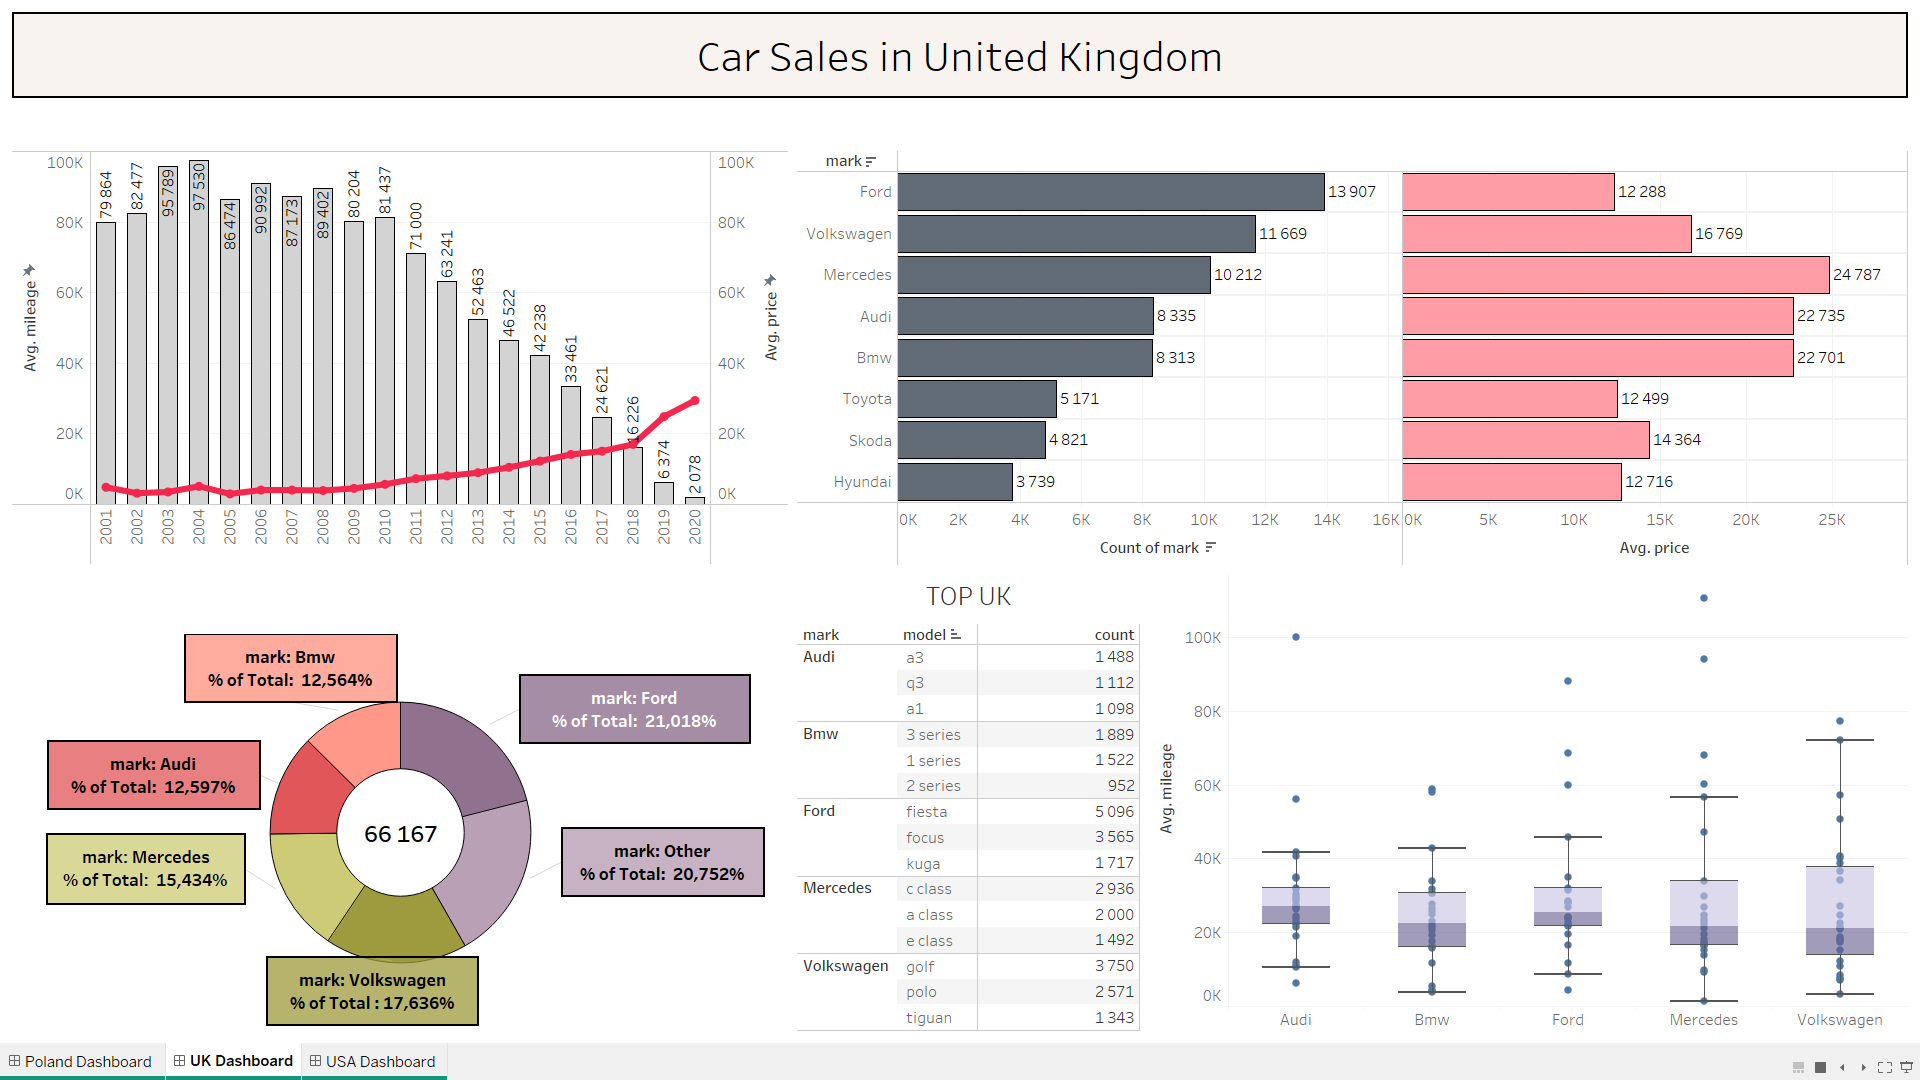

Layout of this report page (visuals, bound fields, positions):
{"tool":"tableau","page":{"name":"UK Dashboard","canvas":[1000,1000],"units":"permille","ordinal":1},"visuals":[{"type":"text","box":[4.8,9.3,990.3,90]},{"type":"blank","box":[4.8,99.2,990.3,43.1]},{"type":"worksheet","title":"5) Cars Bar/Line UK","mark":"Automatic","rows":["mileage","price"],"cols":["Calculation_234750171515437056"],"box":[4.8,142.3,408.3,403.5]},{"type":"worksheet","title":"3) Sold/Avg Barplot UK","mark":"Automatic","rows":["mark"],"cols":["mark","price"],"box":[413.1,142.3,582.1,403.8]},{"type":"blank","box":[4.8,545.8,408.3,57.9]},{"type":"worksheet","title":"1) TOP UK","mark":"Automatic","rows":["mark","model"],"box":[413.1,546.2,182.7,444.5]},{"type":"worksheet","title":"2) Boxplot UK","mark":"Circle","rows":["mileage"],"cols":["mark"],"box":[595.8,546.2,399.4,444.5]},{"type":"worksheet","title":"4) Donut UK","mark":"Pie","rows":["mark","mark"],"box":[4.8,603.7,408.3,387]}]}

Visuals, with their boxes on the dashboard's canvas, which has no fixed pixel size, in thousandths of its width and height (x1, y1, x2, y2). These are canvas units, not pixel positions in the 1920x1080 screenshot, which may show the page scaled, cropped or inside an application window:
text: <box>5,9,995,99</box>
blank: <box>5,99,995,142</box>
"5) Cars Bar/Line UK" worksheet: <box>5,142,413,546</box>
"3) Sold/Avg Barplot UK" worksheet: <box>413,142,995,546</box>
blank: <box>5,546,413,604</box>
"1) TOP UK" worksheet: <box>413,546,596,991</box>
"2) Boxplot UK" worksheet (Circle marks): <box>596,546,995,991</box>
"4) Donut UK" worksheet (Pie marks): <box>5,604,413,991</box>
